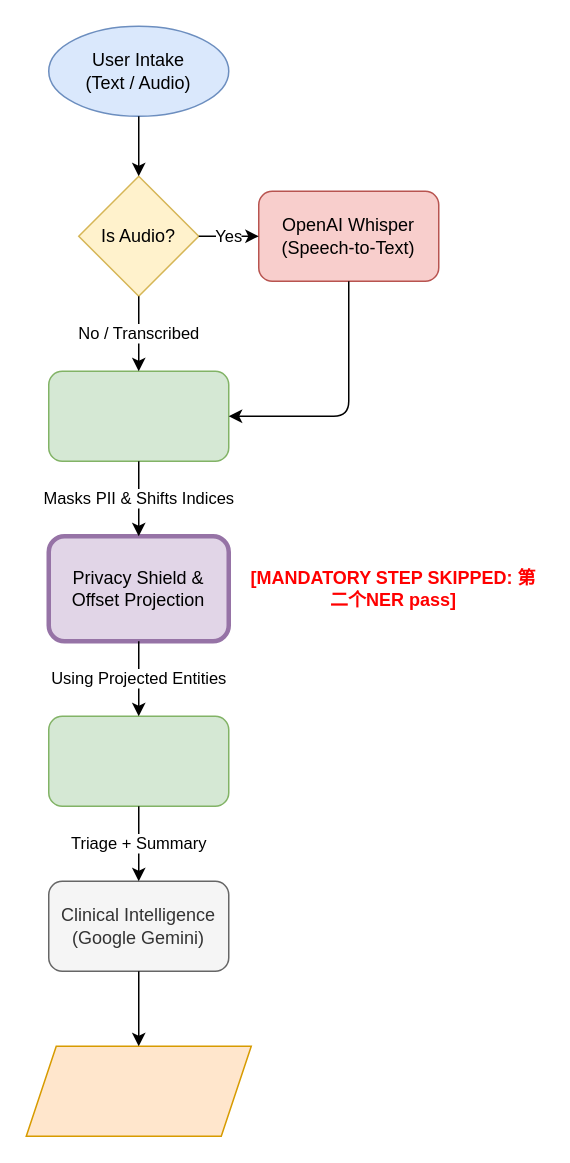
Image size: 570x1163. Some labels were removed from this diagram. The centre of each missing label's shape, as x and y in pixels:
"Clinical NER (Pass 1) scispaCy on Raw Text" goes at pixel 138 415.
"Live Dashboard (Redis / WebSockets)" goes at pixel 138 1090.
"Relationship Extr. ClinicalBERT" goes at pixel 138 760.
